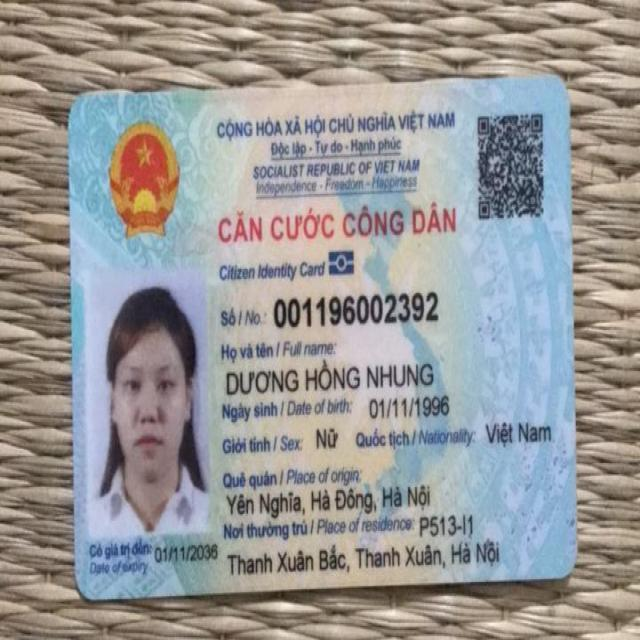bottom_left: (70, 564, 108, 612)
bottom_right: (538, 544, 587, 592)
image_person: (84, 273, 215, 539)
top_left: (56, 81, 100, 130)
top_right: (538, 62, 582, 110)
